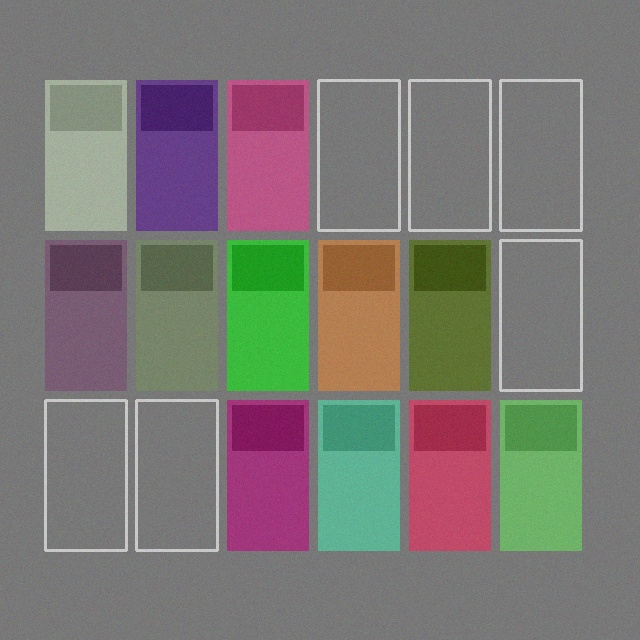space-empty: (318, 80, 399, 230), (409, 80, 490, 230), (500, 80, 581, 230), (500, 240, 581, 390), (45, 400, 126, 550), (136, 400, 217, 550)
space-occupied: (45, 80, 126, 230), (136, 80, 217, 230), (227, 80, 308, 230), (45, 240, 126, 390), (136, 240, 217, 390), (227, 240, 308, 390), (318, 240, 399, 390), (409, 240, 490, 390), (227, 400, 308, 550), (318, 400, 399, 550), (409, 400, 490, 550), (500, 400, 581, 550)
